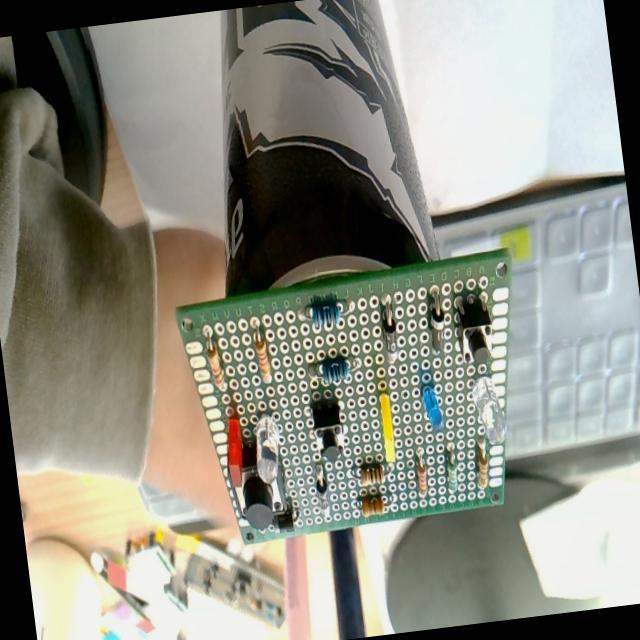diode: (378, 296, 402, 366), (425, 288, 448, 357), (312, 464, 332, 520), (272, 503, 296, 535)
led: (250, 413, 284, 485), (222, 418, 248, 488), (378, 392, 397, 462), (420, 383, 444, 432)
resistor: (468, 372, 508, 447), (205, 342, 227, 392), (310, 300, 343, 330), (253, 334, 272, 384), (473, 440, 492, 490), (320, 358, 352, 386), (443, 448, 460, 493), (359, 462, 386, 488), (414, 454, 429, 496), (360, 494, 386, 518)
switch: (454, 293, 496, 367), (309, 402, 349, 465)
